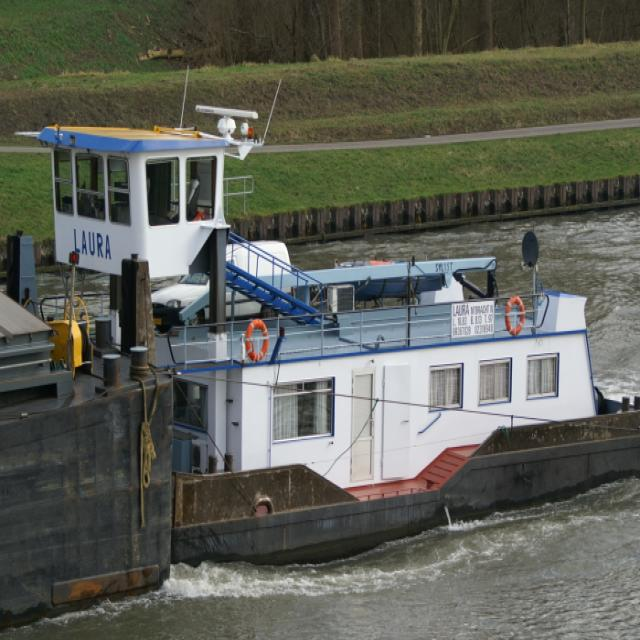tugboat: (5, 63, 640, 594)
